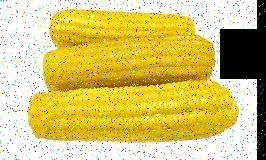corn: (24, 78, 241, 142), (43, 37, 215, 89), (49, 10, 196, 63)
